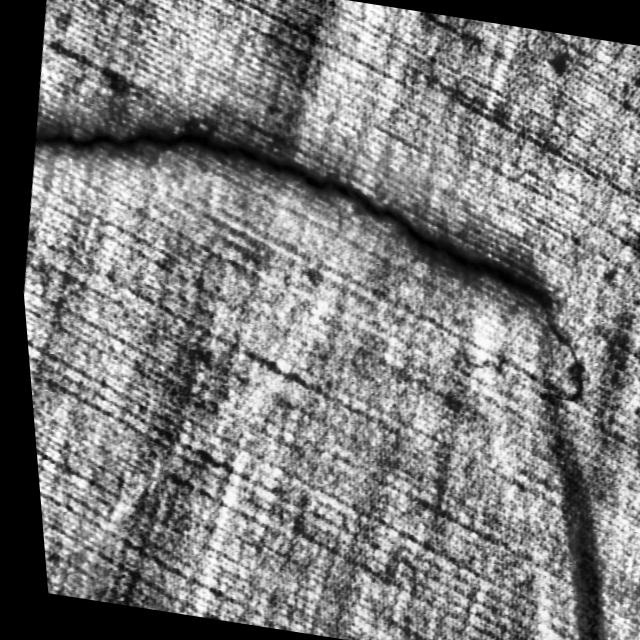Stitch: (6, 41, 591, 393)
